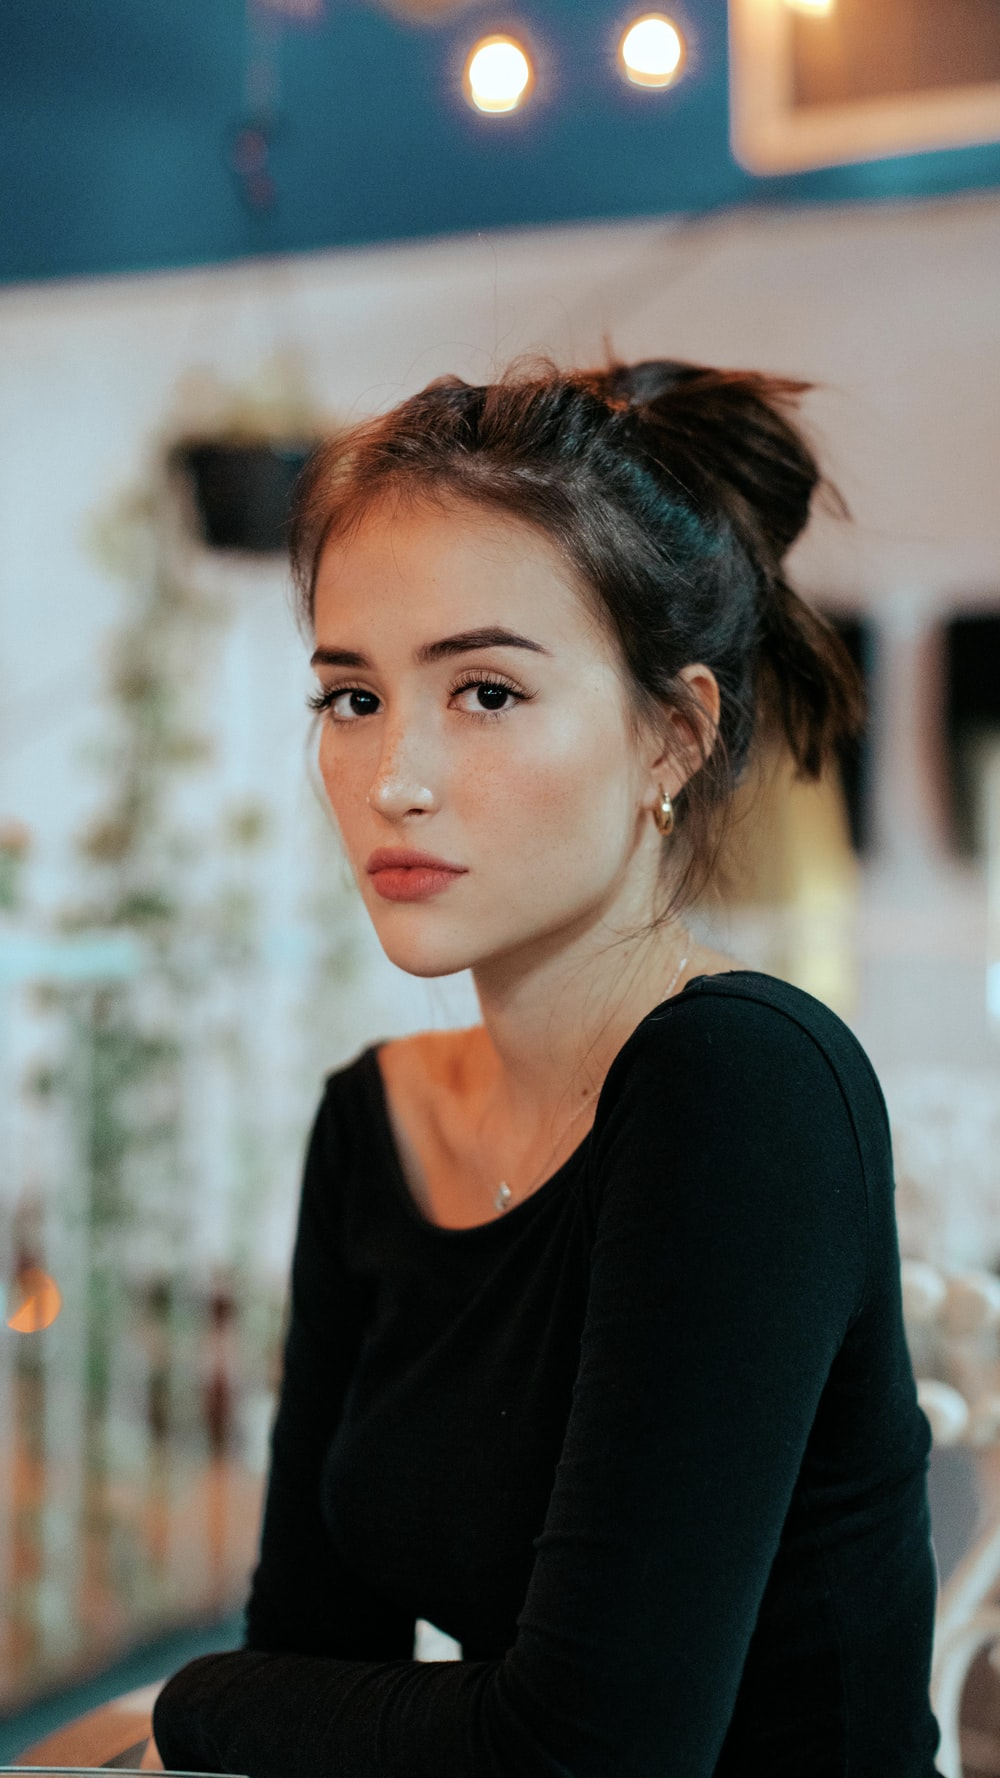bare: (312, 743, 640, 970)
